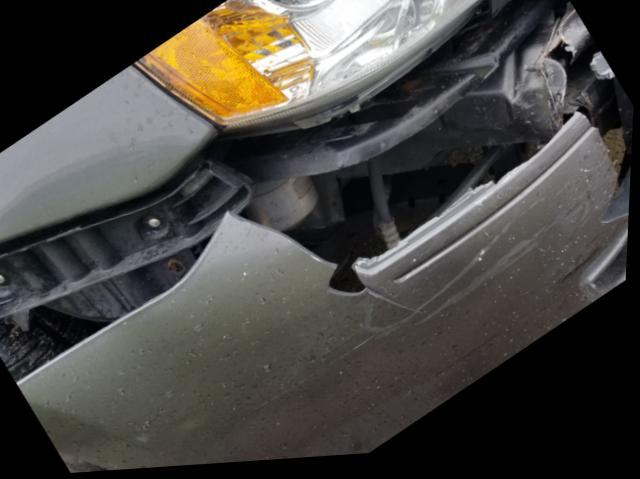crack: (581, 86, 635, 233)
dislocated part: (0, 0, 635, 473)
